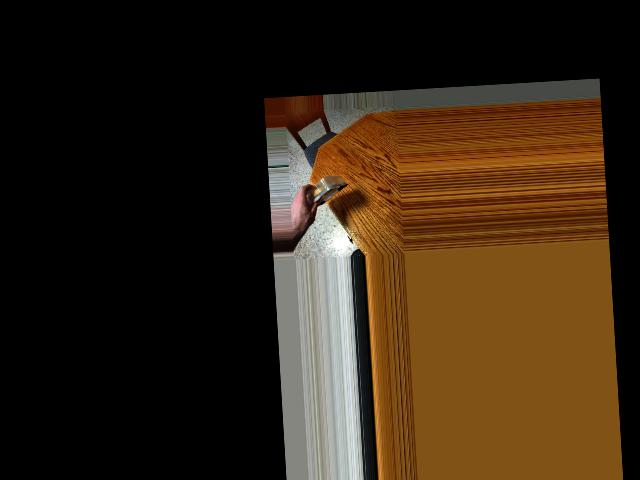cheese: (294, 163, 340, 223)
